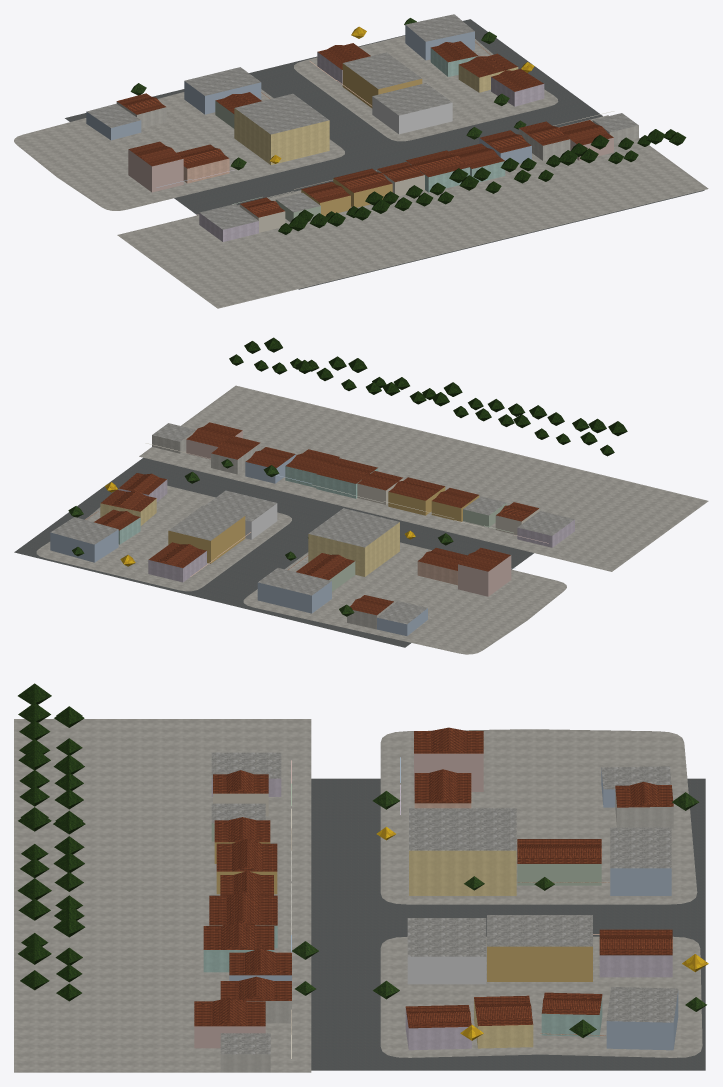
The model's file is cidade_S02_00_lod.gltf.
3 views of the same model, one above another, from view 1: azimuth 30°, elevation 25°; view 2: azimuth 150°, elevation 25°; view 3: azimuth 270°, elevation 25° (orthographic). The views are drawn at different scales.
Parts seen in each view (by area): view 1: S02_00_Chao_LOD2, S02_00_Edificios_LOD1, S02_00_Silhueta_LOD2, S02_00_Vegetacao_LOD2; view 2: S02_00_Chao_LOD2, S02_00_Edificios_LOD1, S02_00_Silhueta_LOD2, S02_00_Vegetacao_LOD2; view 3: S02_00_Chao_LOD2, S02_00_Edificios_LOD1, S02_00_Silhueta_LOD2, S02_00_Vegetacao_LOD2.
Boxes of the visible parts, x1,y1,x2,y2 form: S02_00_Chao_LOD2: (14, 19, 708, 308); S02_00_Edificios_LOD1: (86, 14, 638, 241); S02_00_Silhueta_LOD2: (116, 41, 613, 232); S02_00_Vegetacao_LOD2: (130, 18, 686, 234); S02_00_Chao_LOD2: (14, 385, 708, 654); S02_00_Edificios_LOD1: (50, 423, 574, 635); S02_00_Silhueta_LOD2: (94, 422, 539, 628); S02_00_Vegetacao_LOD2: (68, 337, 627, 616); S02_00_Chao_LOD2: (14, 719, 705, 1072); S02_00_Edificios_LOD1: (194, 727, 678, 1072); S02_00_Silhueta_LOD2: (194, 731, 673, 1050); S02_00_Vegetacao_LOD2: (17, 683, 708, 1040).
Size of the model in its own units: 121 by 15.91 by 100.
Materials: 20 (20 with a texture image).
